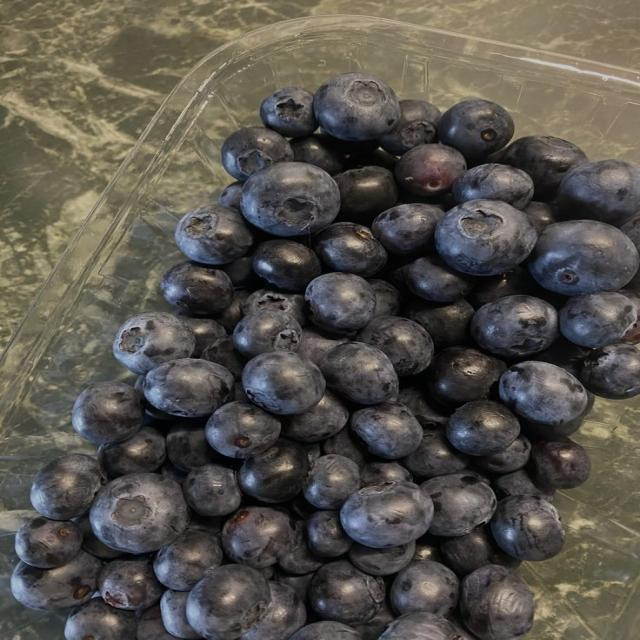blueberry: (528, 220, 639, 296), (90, 473, 189, 553), (435, 199, 537, 275), (241, 162, 339, 236), (187, 565, 270, 639), (340, 483, 433, 548), (314, 73, 400, 140), (499, 361, 587, 424), (555, 160, 639, 226), (460, 565, 534, 639), (471, 295, 559, 357), (500, 136, 586, 199), (242, 351, 325, 414), (143, 359, 233, 417), (11, 551, 101, 609), (113, 312, 195, 374), (31, 454, 106, 520), (320, 342, 399, 404), (420, 472, 496, 536), (427, 346, 506, 407), (491, 495, 564, 561), (309, 561, 385, 623), (175, 205, 253, 264), (221, 507, 294, 568), (73, 381, 143, 444), (238, 440, 309, 502), (560, 291, 637, 348), (438, 99, 513, 157), (154, 528, 222, 591), (205, 402, 280, 457), (446, 400, 519, 456), (306, 273, 375, 332), (351, 402, 422, 458), (314, 222, 386, 277), (440, 526, 519, 576), (239, 582, 306, 639), (221, 127, 293, 180), (391, 561, 459, 617), (160, 261, 233, 313), (372, 203, 444, 255), (395, 144, 466, 196), (334, 166, 397, 224), (452, 164, 533, 209), (520, 391, 594, 440), (252, 240, 321, 291), (98, 427, 166, 478), (281, 391, 349, 442), (15, 517, 82, 568), (405, 300, 473, 350), (98, 558, 163, 610), (380, 100, 440, 155), (403, 428, 469, 478), (580, 344, 639, 399), (467, 267, 544, 309), (405, 256, 474, 302), (234, 311, 301, 358), (303, 455, 360, 509), (183, 464, 241, 516), (65, 598, 137, 639), (532, 438, 590, 488), (260, 87, 317, 137), (167, 420, 217, 472), (278, 521, 326, 575), (531, 336, 588, 377), (244, 289, 307, 326), (349, 541, 415, 576), (474, 434, 531, 473), (399, 383, 447, 429), (306, 511, 353, 557), (200, 336, 247, 382), (379, 612, 459, 639), (178, 312, 226, 357), (74, 515, 122, 560), (291, 135, 344, 175), (492, 468, 555, 501), (160, 590, 201, 639), (320, 128, 379, 160), (322, 427, 366, 467), (214, 290, 251, 332), (355, 601, 394, 639), (220, 256, 259, 290), (135, 605, 174, 639), (272, 569, 314, 600), (290, 621, 360, 639), (361, 462, 413, 486), (345, 149, 397, 172), (523, 201, 558, 234), (413, 534, 442, 563), (447, 614, 477, 639), (620, 213, 639, 250), (218, 181, 242, 210), (300, 443, 322, 466)
